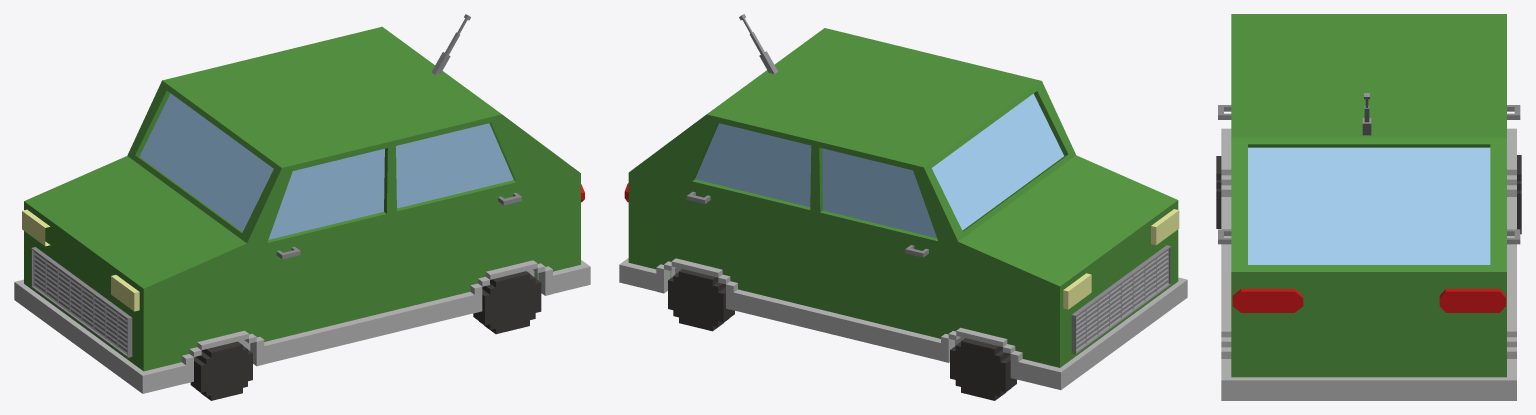
Rendered from car 3.fbx.
3 views of the same model, side by side, from view 1: azimuth 30°, elevation 25°; view 2: azimuth 150°, elevation 25°; view 3: azimuth 270°, elevation 25° (orthographic). The views are drawn at different scales.
Parts seen in each view (by area): view 1: pCube60; view 2: pCube60; view 3: pCube60.
Part boxes in pixels (bbox=[...]): pCube60: bbox=[14, 14, 590, 400]; pCube60: bbox=[619, 14, 1187, 400]; pCube60: bbox=[1216, 14, 1521, 400].
Size of the model in its own units: 75.38 by 42.61 by 38.7.
1 material, 1 textured.
